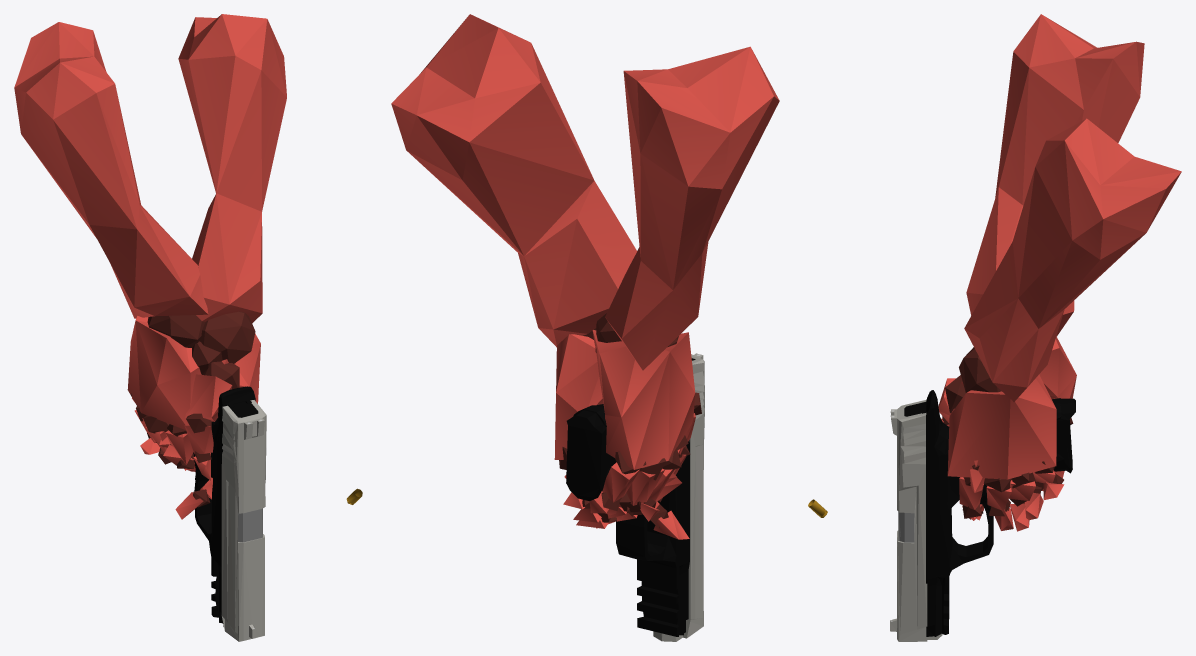
Rendered from M&P9shoot3LowP_000206.obj.
The picture shows the model from 3 angles, left to right: view 1: azimuth 30°, elevation 25°; view 2: azimuth 150°, elevation 25°; view 3: azimuth 270°, elevation 25°; orthographic projection. The views are drawn at different scales.
Parts seen in each view (by area): view 1: Beta_Surface.001_Beta_Surface.002, slide_平面.002, Beta_Joints.001_Beta_Joints.002, triger_平面.001; view 2: Beta_Surface.001_Beta_Surface.002, triger_平面.001, slide_平面.002, Beta_Joints.001_Beta_Joints.002; view 3: Beta_Surface.001_Beta_Surface.002, triger_平面.001, slide_平面.002, Beta_Joints.001_Beta_Joints.002.
Part boxes in pixels (left/top/right/bottom): Beta_Surface.001_Beta_Surface.002: left=14, top=14, right=286, bottom=519; slide_平面.002: left=221, top=400, right=266, bottom=641; Beta_Joints.001_Beta_Joints.002: left=131, top=311, right=255, bottom=507; triger_平面.001: left=193, top=386, right=262, bottom=623; Beta_Surface.001_Beta_Surface.002: left=391, top=14, right=779, bottom=539; triger_平面.001: left=566, top=404, right=689, bottom=636; slide_平面.002: left=653, top=353, right=704, bottom=641; Beta_Joints.001_Beta_Joints.002: left=559, top=313, right=701, bottom=528; Beta_Surface.001_Beta_Surface.002: left=938, top=14, right=1181, bottom=531; triger_平面.001: left=898, top=390, right=1075, bottom=636; slide_平面.002: left=890, top=399, right=942, bottom=641; Beta_Joints.001_Beta_Joints.002: left=942, top=347, right=1073, bottom=519.
Size of the model in its own units: 42.47 by 80.1 by 48.28.
